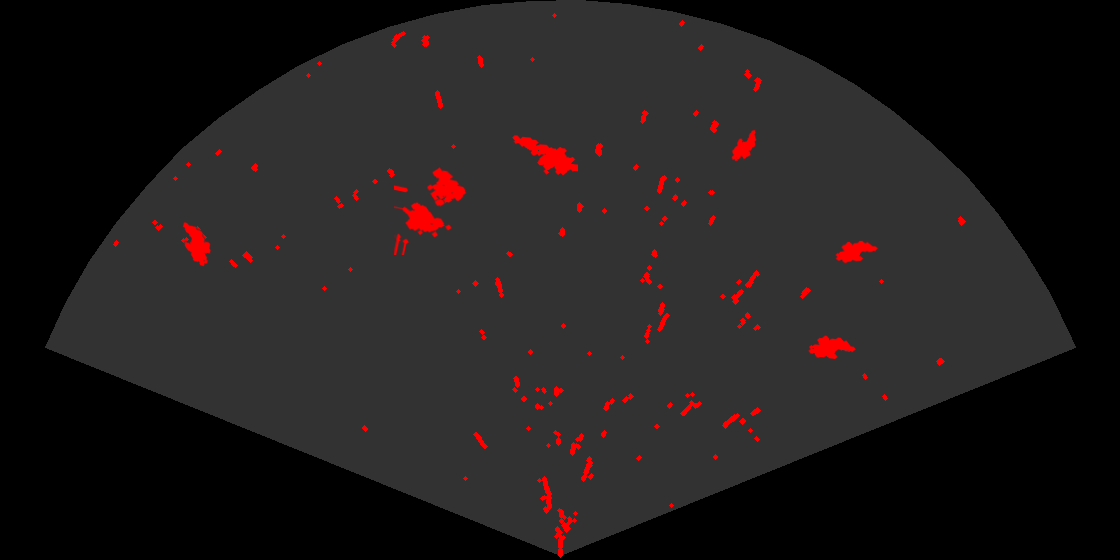AUV: (181, 221, 212, 268), (807, 334, 857, 361), (834, 239, 880, 265), (730, 128, 758, 163)
cage: (394, 165, 468, 255)
frogman: (511, 134, 578, 177)
